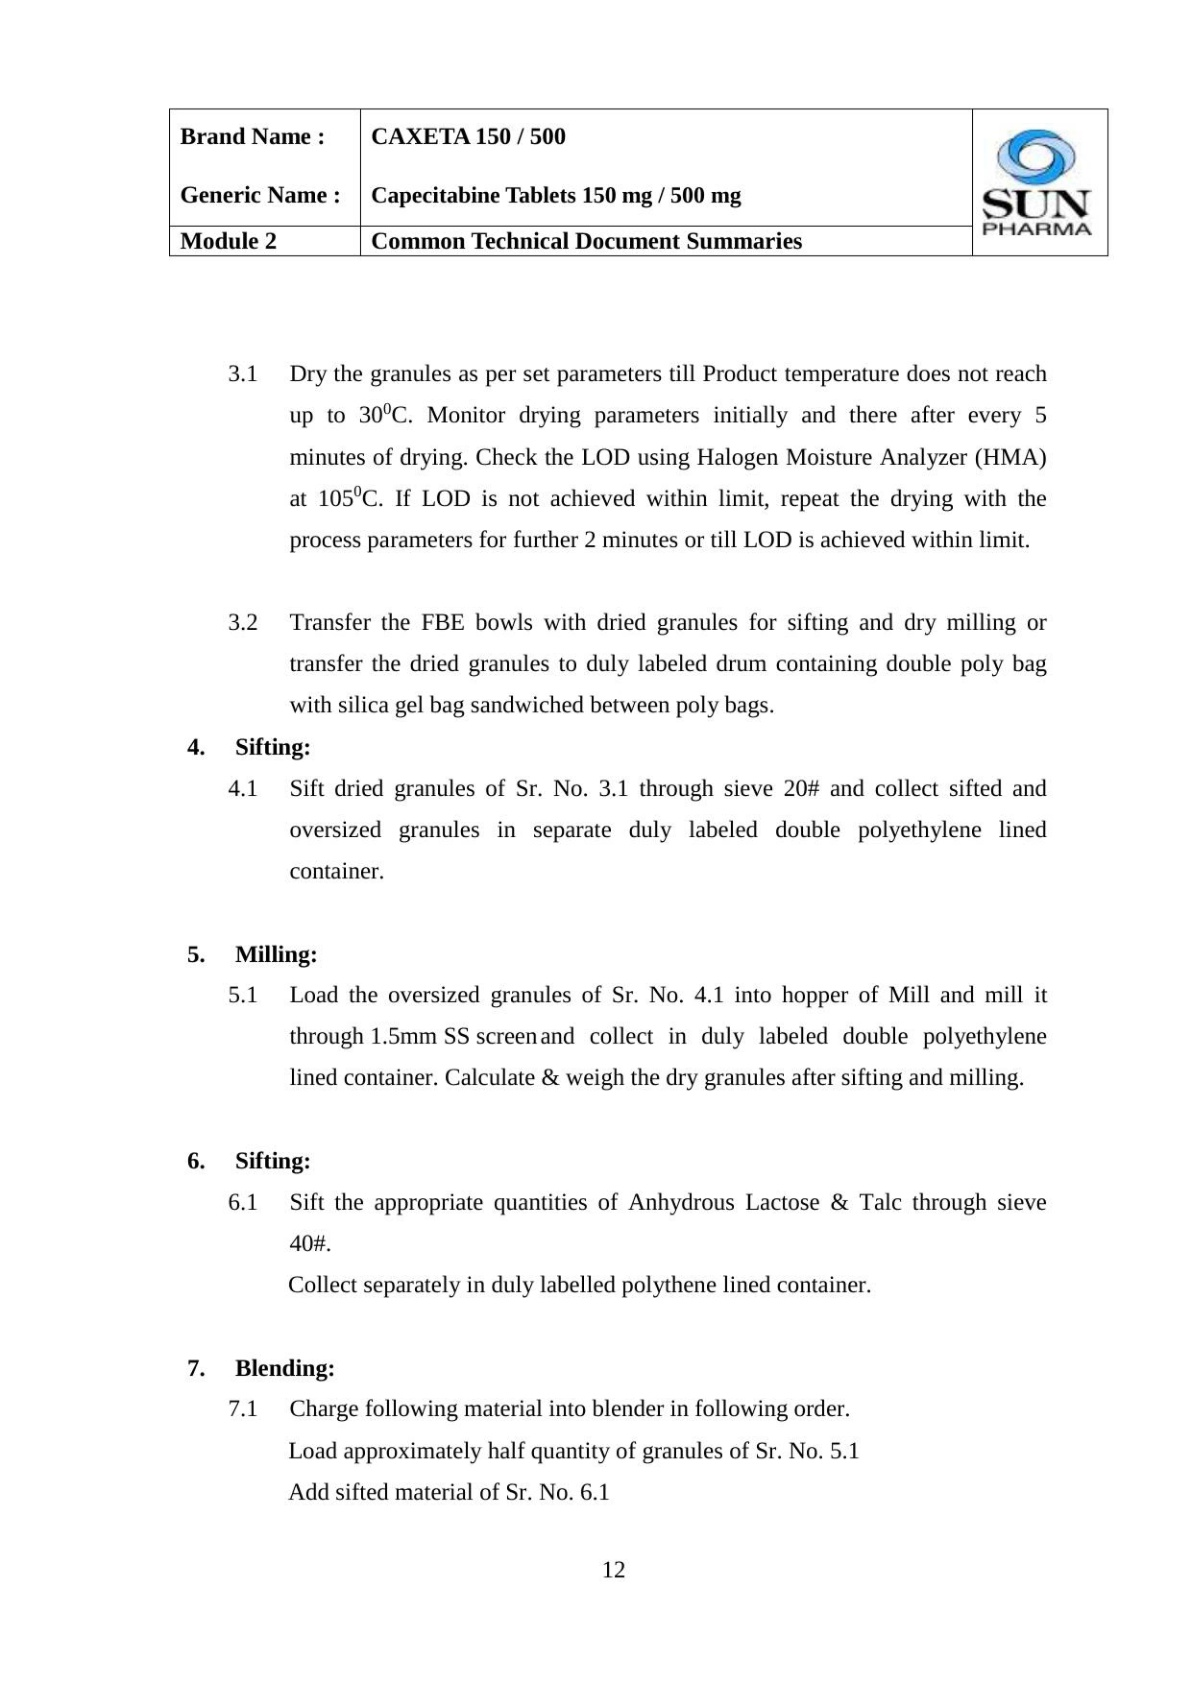merged_cells: (168, 108, 1109, 257)
